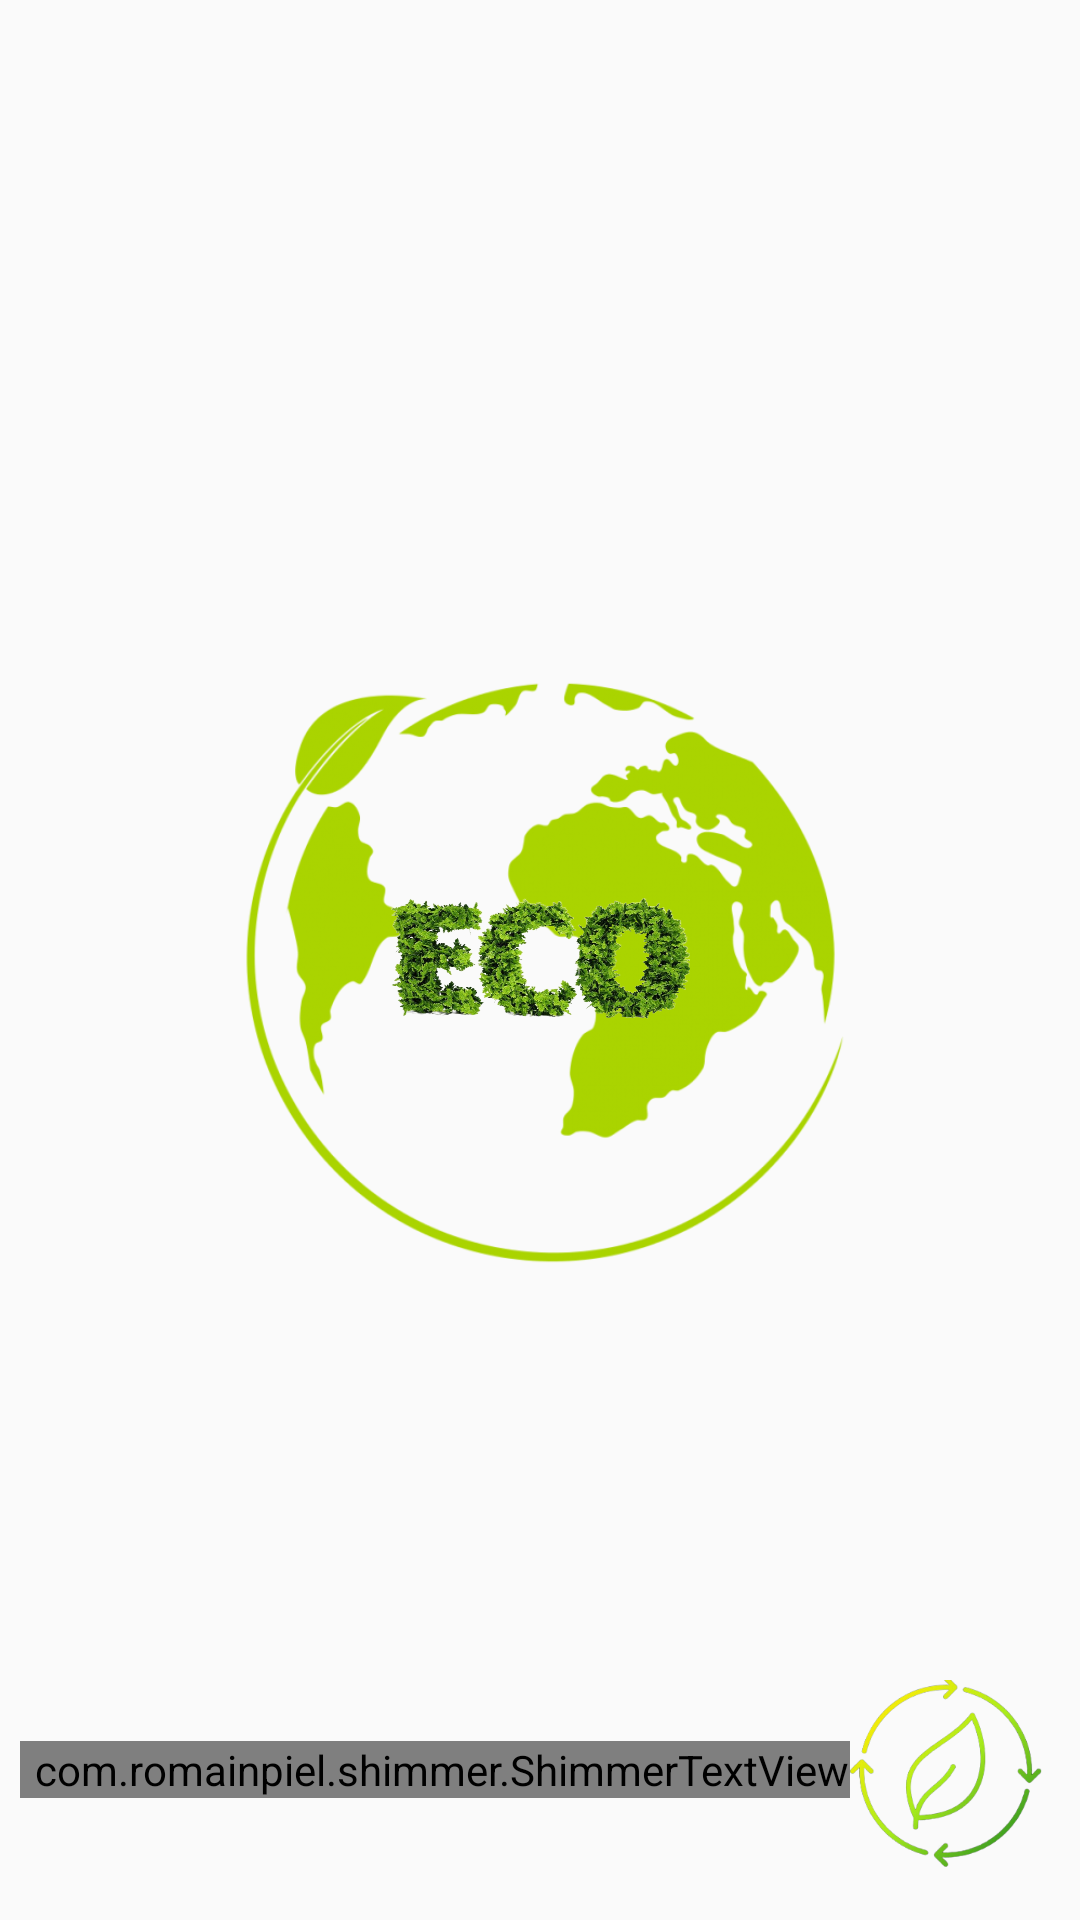

Screen size 1080 × 1920. Icon name, then its box in pixels as [x1, y1, x2, y2]:
leaf: [861, 1680, 1041, 1867]
